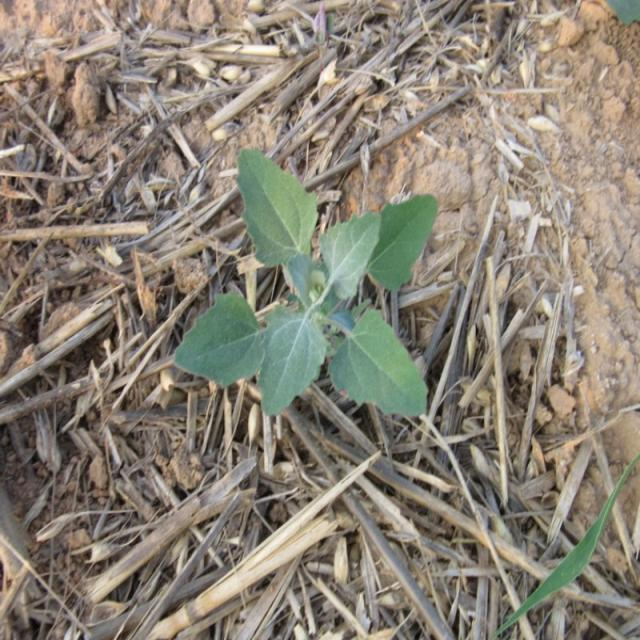ca: (177, 146, 433, 429)
